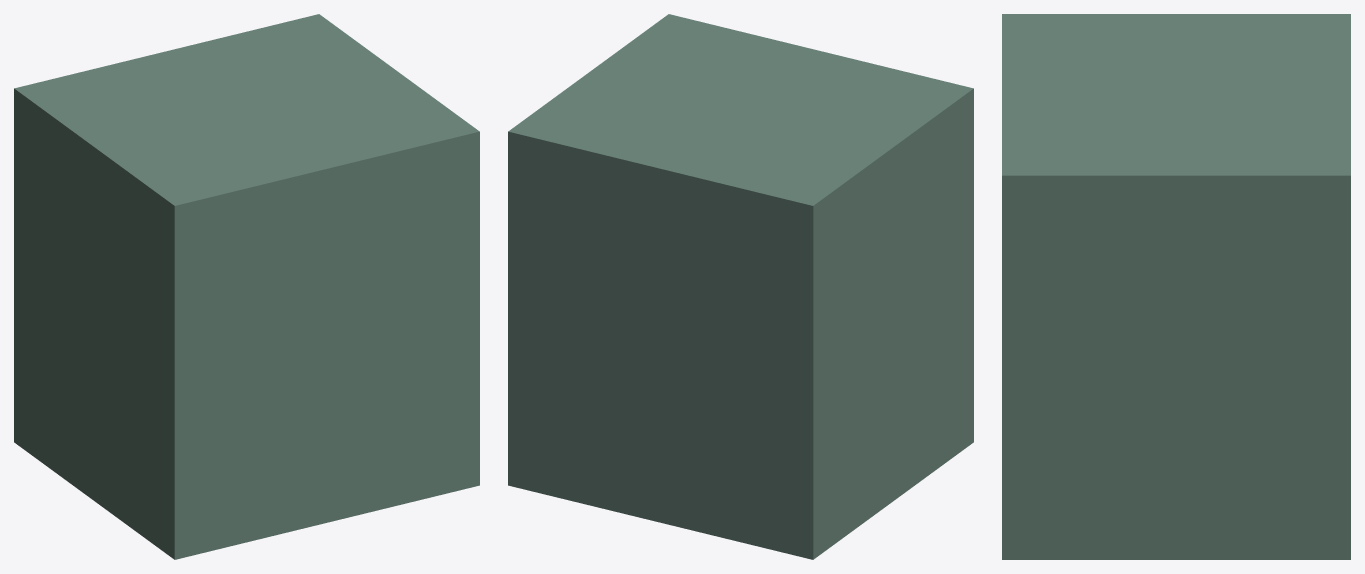
Rendered from prop_mist_pillar_lod2.glb.
3 renders of one model, left to right at view 1: azimuth 30°, elevation 25°; view 2: azimuth 150°, elevation 25°; view 3: azimuth 270°, elevation 25°, orthographic. The views are drawn at different scales.
Visible parts, largest first — view 1: prop_mist_pillar_lod2; view 2: prop_mist_pillar_lod2; view 3: prop_mist_pillar_lod2.
Boxes of the visible parts, left/top/right/bottom form: prop_mist_pillar_lod2: left=14, top=14, right=479, bottom=559; prop_mist_pillar_lod2: left=508, top=14, right=973, bottom=559; prop_mist_pillar_lod2: left=1002, top=14, right=1350, bottom=559.
Size of the model in its own units: 2.39 by 2.65 by 2.18.
